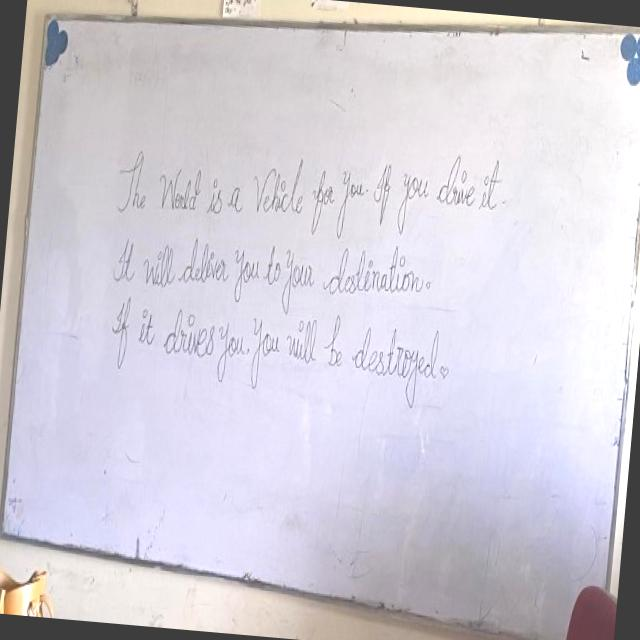White-board: (0, 17, 640, 640)
